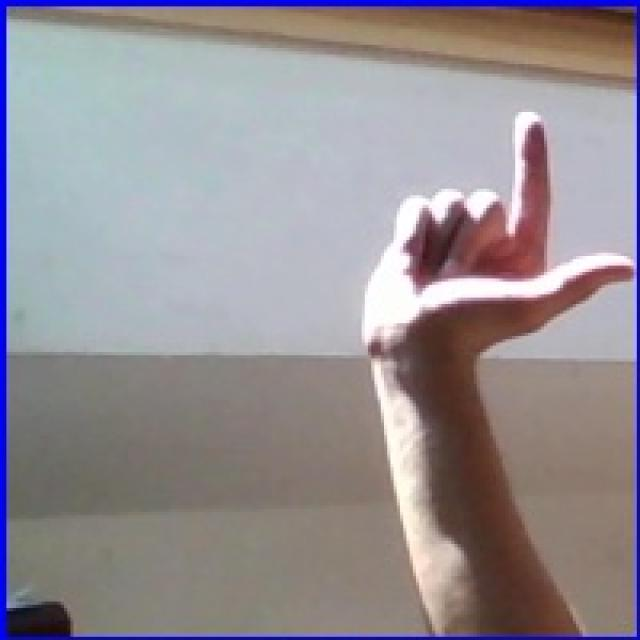Letra L: (331, 79, 638, 421)
